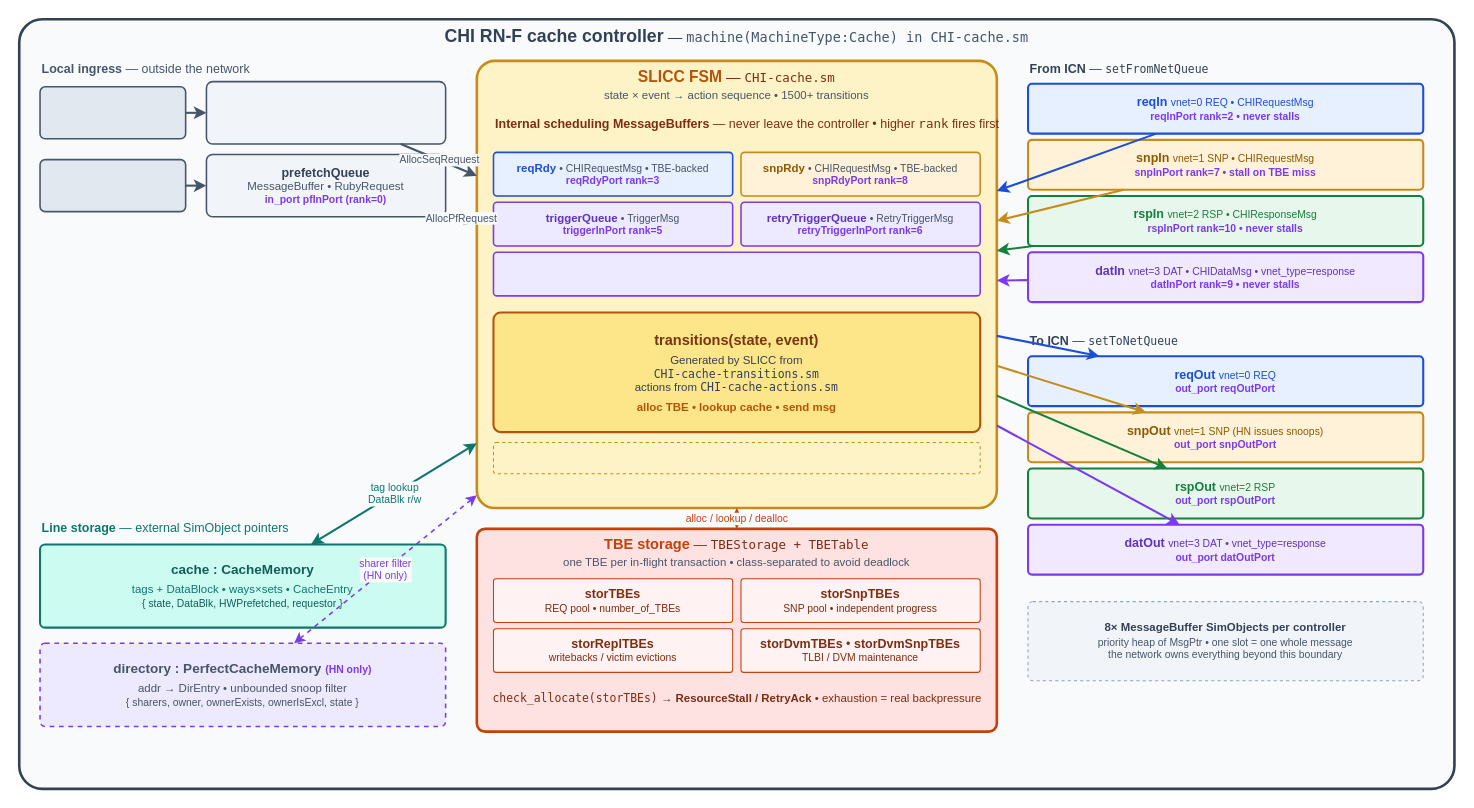
The diagram is 1474 pixels wide and 808 high, and some of its shapes have lost their labels. The centre of each missing label's shape, as x and y in pixels:
mandatoryQueue MessageBuffer • RubyRequest in_port seqInPort (rank=1): pixel 325 112
Prefetcher prefetch::Base • optional: pixel 112 185
replTriggerQueue • ReplacementMsg • victim evictions replTriggerInPort rank=4: pixel 736 273
Sequencer RubySequencer • per-CPU: pixel 112 112
useTimerTable • UD_T store-lock timeout useTimerTable_in rank=11: pixel 736 457
